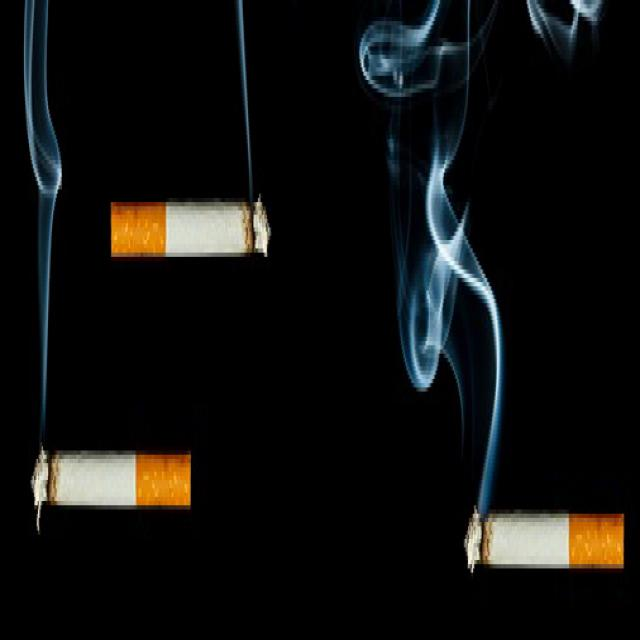smoking: (30, 448, 192, 510), (464, 510, 625, 572), (108, 201, 271, 258)
